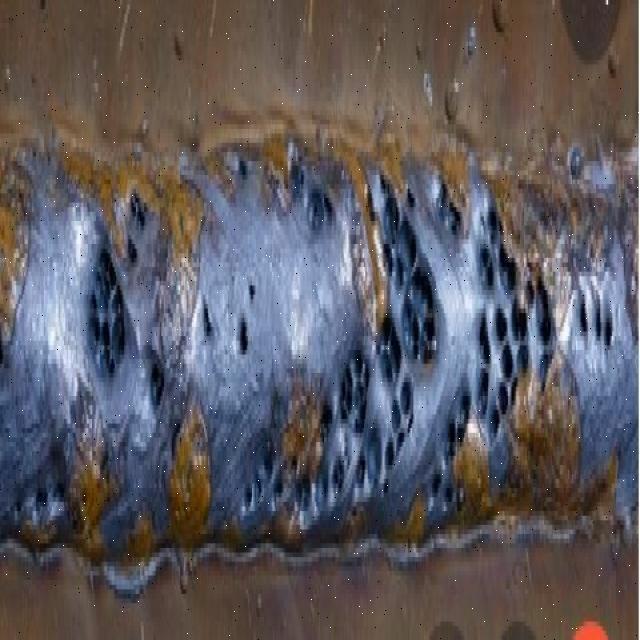Defect: (574, 273, 631, 365), (427, 170, 472, 241), (364, 167, 423, 221), (10, 479, 84, 518), (419, 464, 465, 523), (252, 444, 300, 493), (334, 368, 370, 431), (508, 313, 540, 376), (396, 219, 432, 273), (490, 240, 527, 292), (142, 350, 174, 410), (386, 382, 421, 436), (466, 306, 498, 364), (232, 486, 282, 520), (450, 391, 485, 436), (332, 452, 362, 504), (102, 336, 134, 382), (122, 189, 156, 231), (307, 184, 343, 220), (372, 316, 404, 350), (197, 294, 220, 341), (232, 313, 252, 359), (80, 292, 104, 322), (92, 247, 115, 275), (242, 282, 264, 308)
